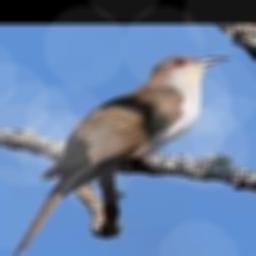Cuckoo: (12, 55, 230, 256)
